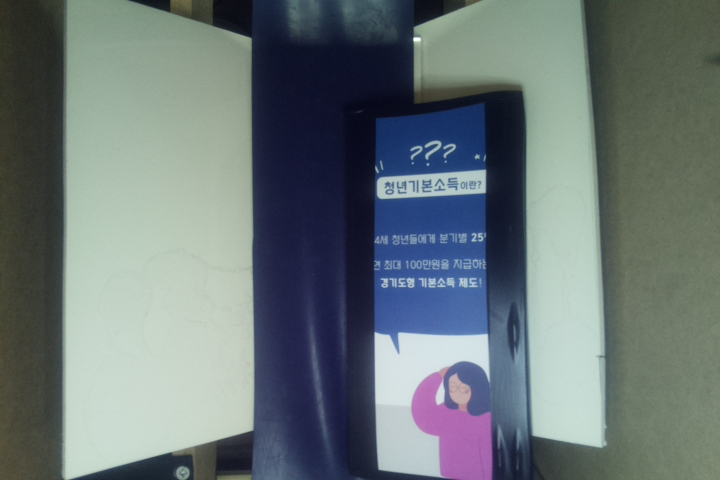book: (349, 92, 530, 480)
